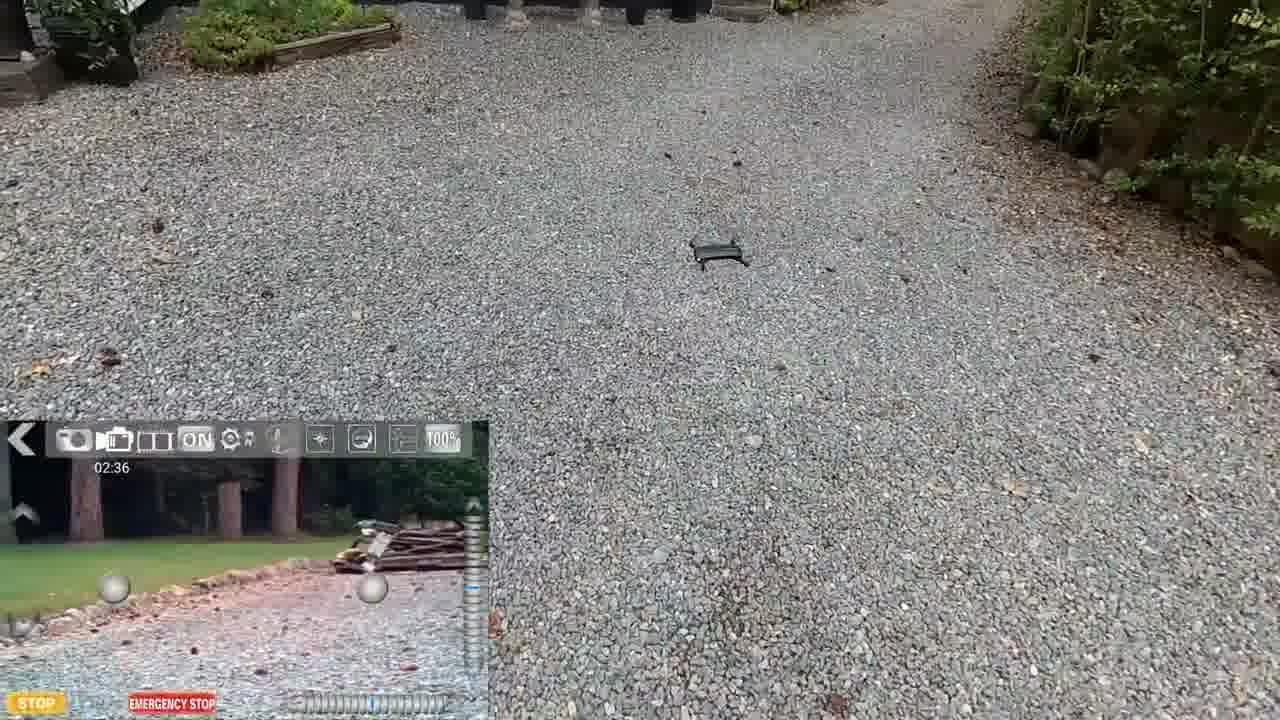drone: (678, 229, 760, 276)
